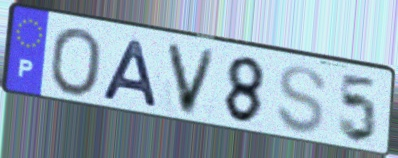5: (334, 71, 380, 145)
8: (220, 54, 270, 127)
A: (97, 37, 161, 110)
O: (47, 26, 105, 99)
S: (273, 63, 329, 137)
V: (163, 39, 220, 119)
